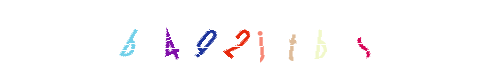2: (205, 0, 285, 80)
4: (130, 0, 210, 80)
9: (166, 0, 246, 80)
B: (109, 0, 189, 80), (230, 0, 310, 80)
J: (226, 0, 306, 80)
S: (270, 0, 350, 80)
T: (229, 0, 309, 80)
